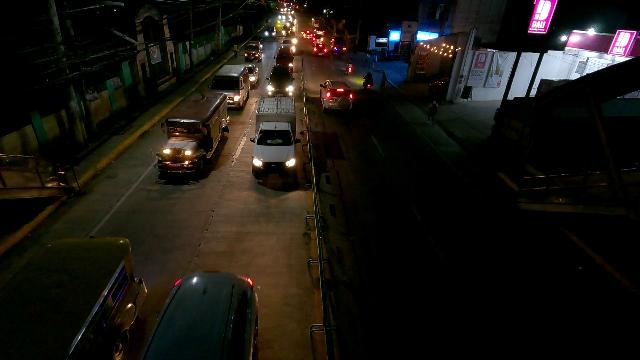car: (136, 270, 256, 360), (319, 77, 354, 114), (265, 63, 294, 96), (241, 63, 258, 89), (244, 43, 263, 62), (312, 44, 329, 57)
jeepney: (155, 91, 229, 181), (209, 65, 251, 110)
motorcycle: (363, 72, 373, 92), (346, 58, 352, 77)
truck: (331, 36, 347, 55)
van: (252, 96, 299, 181), (275, 46, 294, 69), (279, 37, 295, 56)
